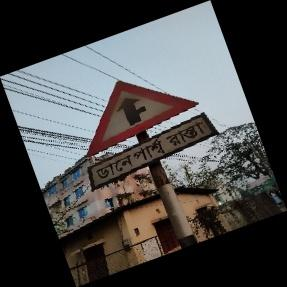Side-road-right: (81, 80, 212, 199)
